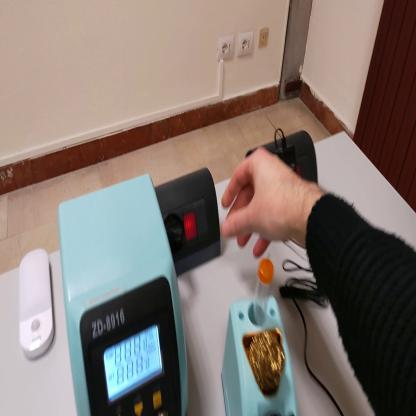hand: (222, 148, 306, 253)
socket: (156, 171, 223, 281), (245, 133, 322, 192)
welder base: (220, 254, 298, 415)
welder station: (56, 173, 189, 416)
